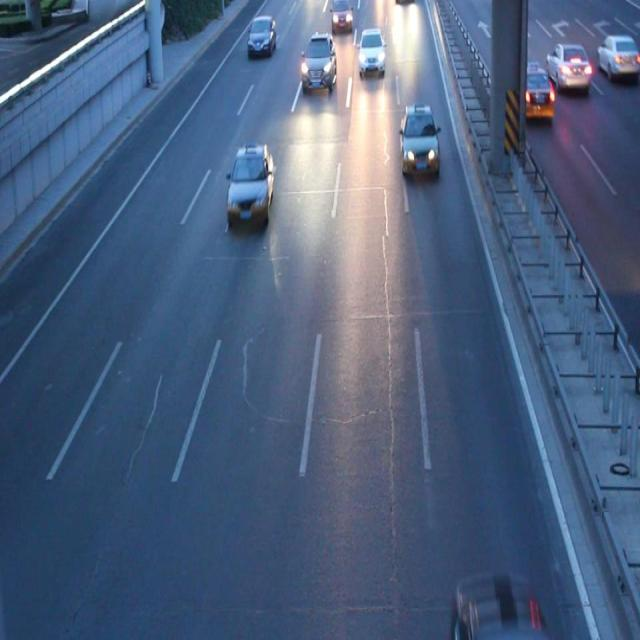car: (452, 575, 546, 640), (227, 143, 273, 223), (398, 102, 440, 175), (299, 33, 337, 90), (357, 27, 386, 75), (246, 14, 275, 58), (330, 1, 351, 36)
